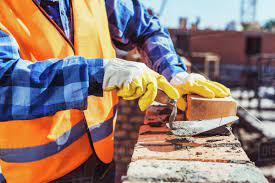Jacket: (1, 1, 116, 173)
gloves: (100, 49, 223, 111)
